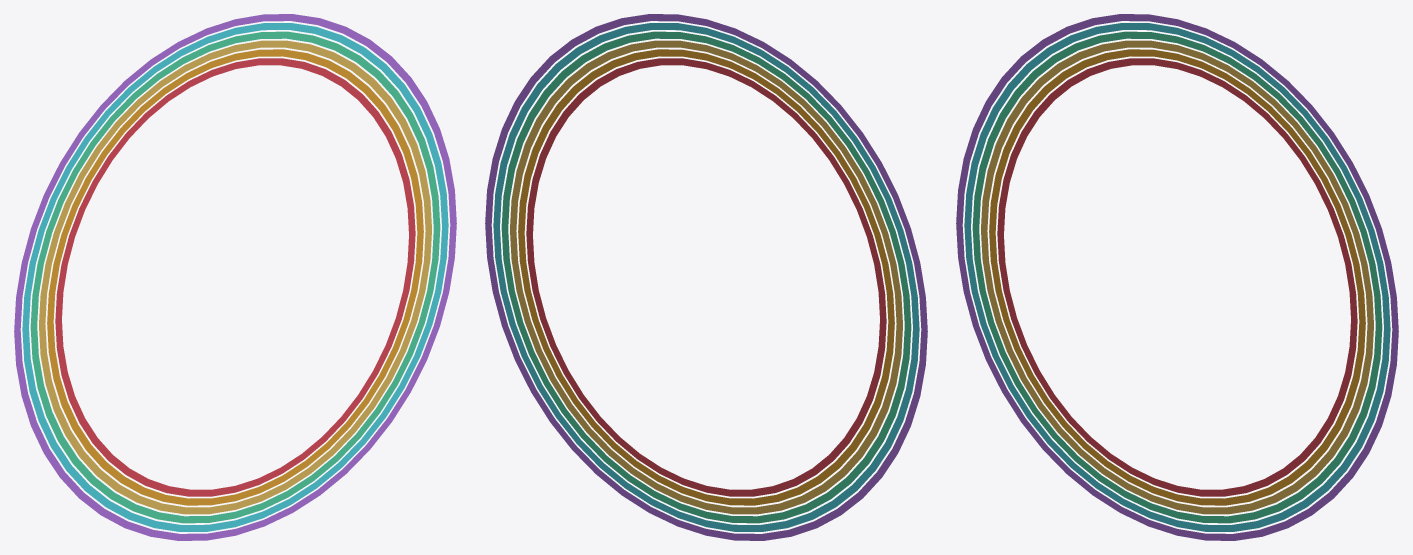
File: rainbow-aura.glb
3 views of the same model, side by side, from view 1: azimuth 30°, elevation 25°; view 2: azimuth 150°, elevation 25°; view 3: azimuth 330°, elevation 25° (orthographic).
Parts seen in each view (by area): view 1: rainbow arc (×6); view 2: rainbow arc (×6); view 3: rainbow arc (×6).
Part boxes in pixels (x1,y1,x2,y2): rainbow arc (×6): (14, 14, 456, 540); rainbow arc (×6): (485, 14, 927, 540); rainbow arc (×6): (956, 14, 1398, 540).
Bounding box in the file's own units: 2.95 × 3.29 × 0.
